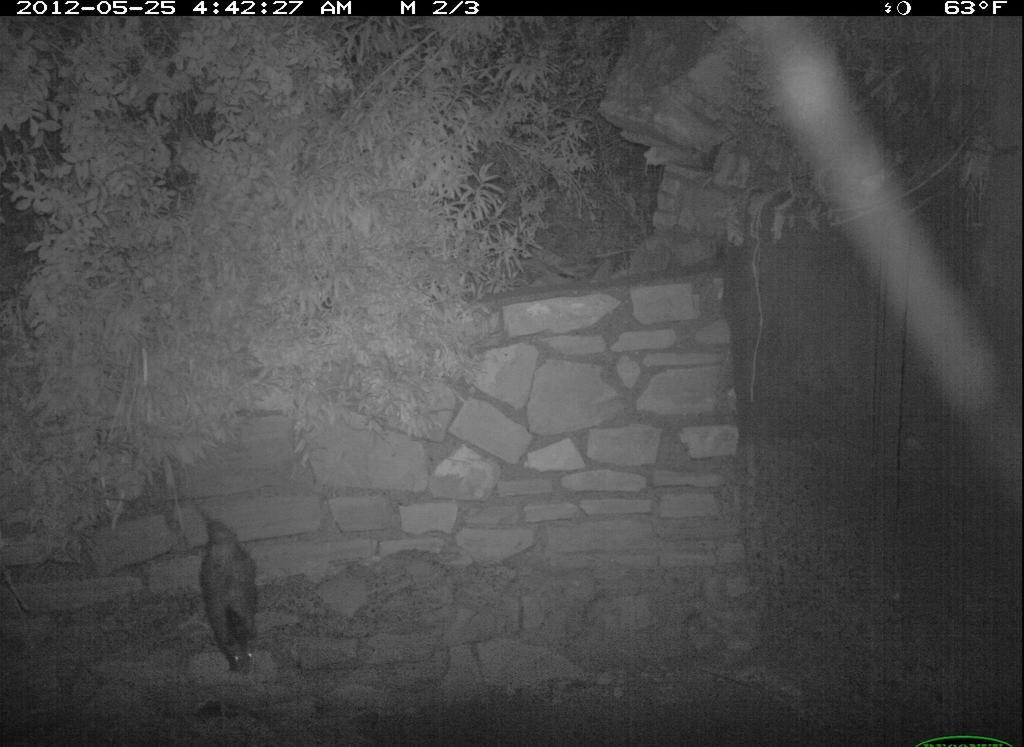opossum: (175, 497, 310, 721)
